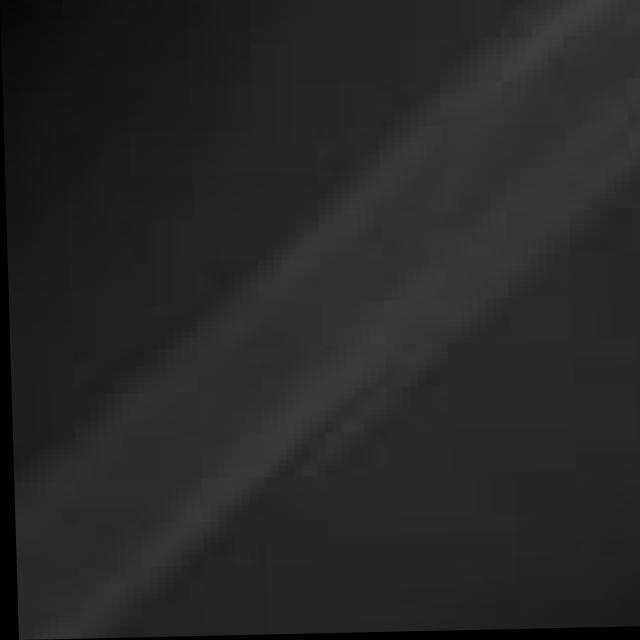fracture: (6, 0, 640, 636)
